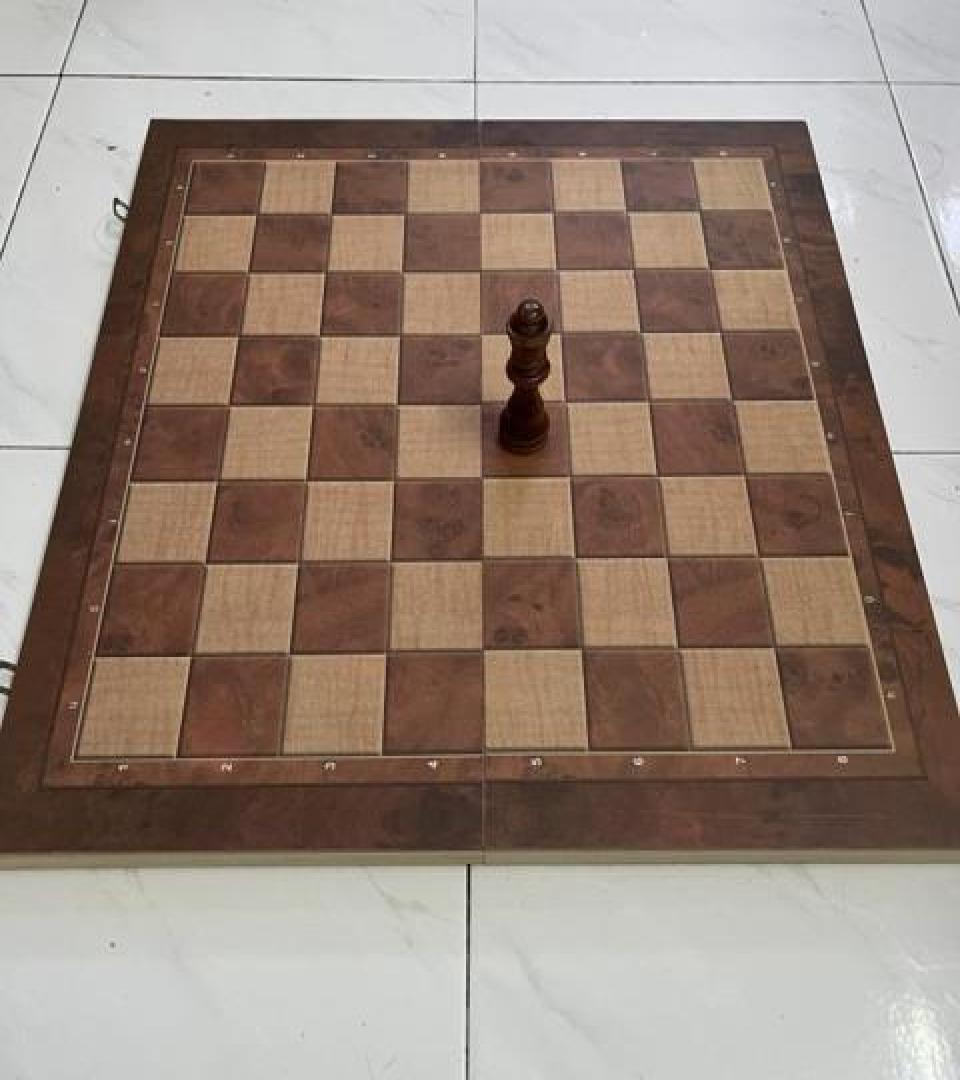xcorner: (640, 454, 674, 493), (757, 625, 791, 664), (680, 192, 714, 230), (607, 192, 641, 230), (534, 192, 568, 230), (460, 194, 494, 232), (387, 194, 421, 232), (313, 194, 347, 232), (239, 195, 273, 233), (690, 250, 724, 288), (614, 250, 648, 288), (538, 250, 572, 288), (461, 251, 495, 289), (385, 251, 419, 289), (308, 252, 342, 290), (231, 252, 265, 290), (701, 312, 735, 350), (622, 312, 656, 350), (542, 313, 576, 351), (463, 314, 497, 352), (383, 314, 417, 352), (302, 315, 336, 353), (222, 315, 256, 353), (713, 379, 747, 417), (630, 380, 664, 418), (547, 382, 581, 420), (464, 382, 498, 420), (380, 382, 414, 420), (296, 384, 330, 422), (212, 385, 246, 423), (726, 454, 760, 492), (553, 456, 587, 494), (465, 457, 499, 495), (378, 458, 412, 496), (290, 459, 324, 497), (202, 460, 236, 498), (741, 536, 775, 574), (650, 537, 684, 575), (559, 538, 593, 576), (467, 539, 501, 577), (375, 540, 409, 578), (283, 541, 317, 579), (190, 544, 224, 582), (661, 628, 695, 666), (565, 629, 599, 667), (469, 630, 503, 668), (372, 632, 406, 670), (275, 634, 309, 672), (177, 634, 211, 672)
